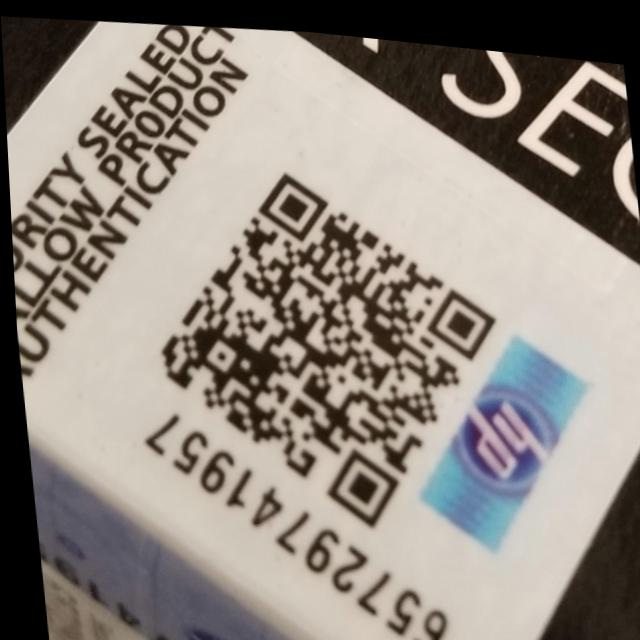QR_CODE: (126, 128, 522, 553)
